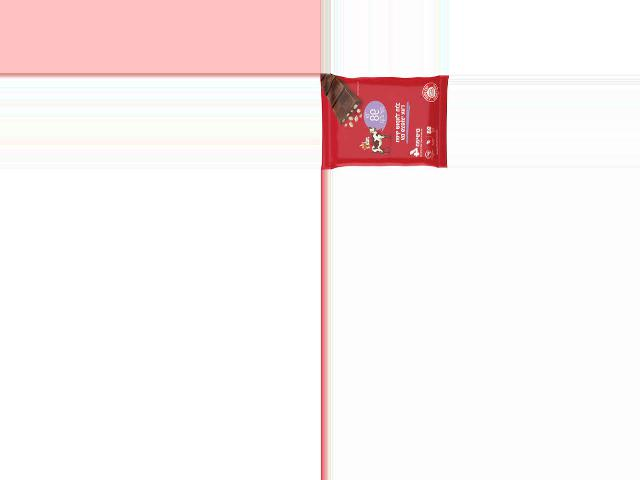chocolate: (321, 77, 449, 169)
